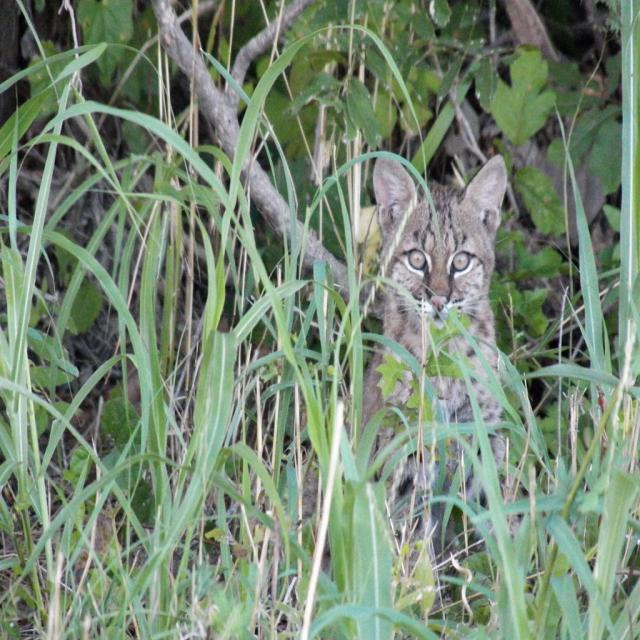Cat: (343, 158, 508, 556)
